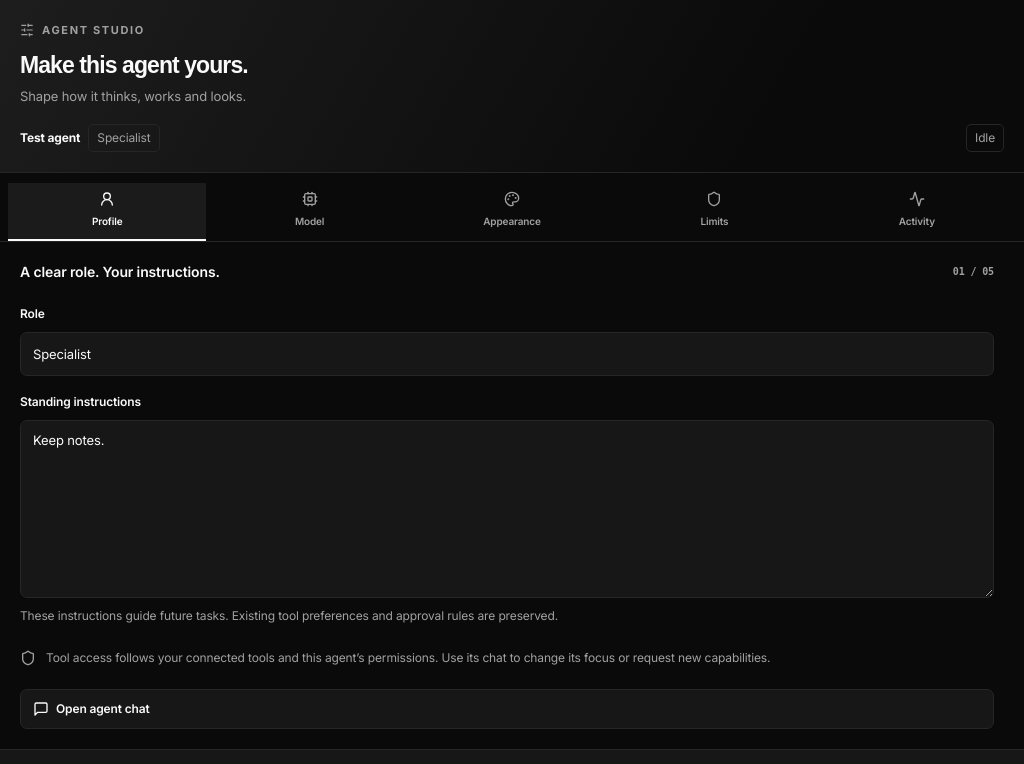
agent studio drafts › a failed save retains the draft and allows a retry
Replace the text in the field labelled "Role" with "Keep this draft" at (507, 354), box [20,332,994,376]
(page scrolled)
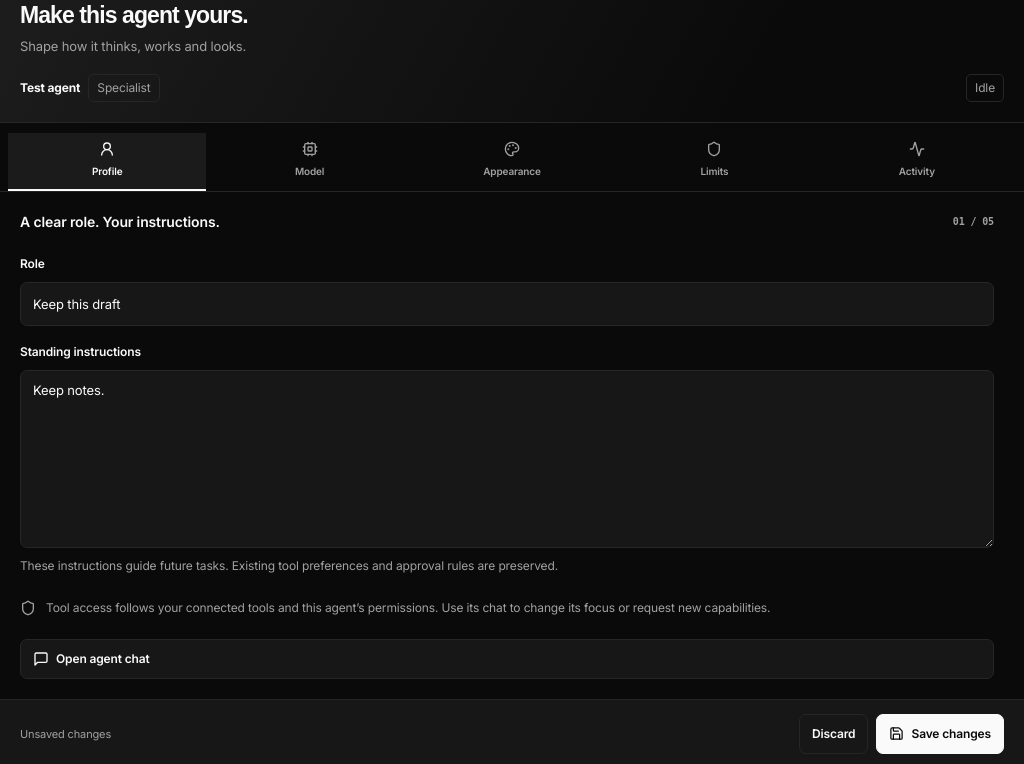
Click the button "Save changes" at (940, 734), box [876,714,1004,754]
(page scrolled)
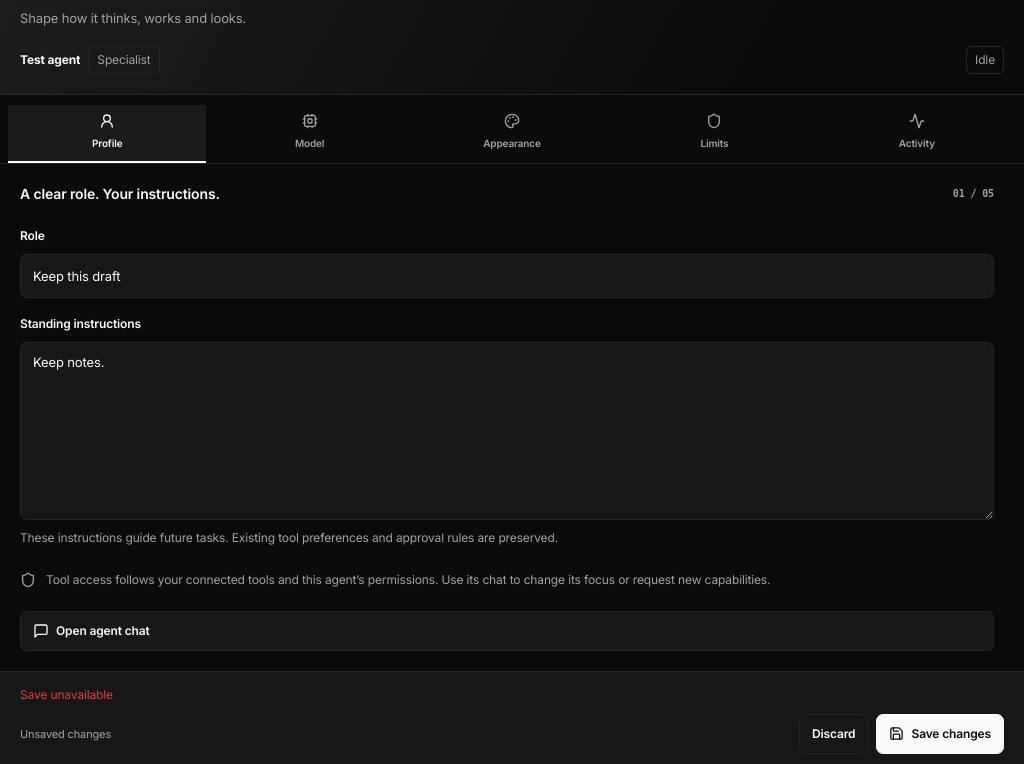
Expected: the button "Save changes" is enabled, [876,714,1004,754]
Expected: the message "Save unavailable" is shown, [20,687,113,702]
